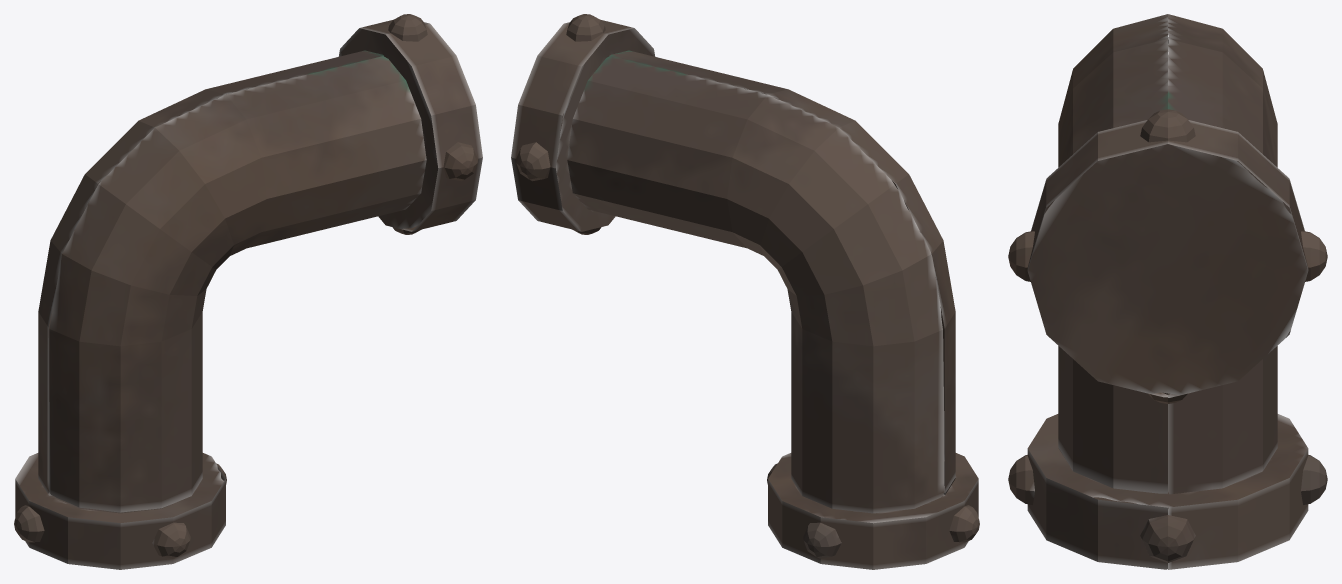
Rendered from tuberiaCurva.fbx.
3 renders of one model, left to right at view 1: azimuth 30°, elevation 25°; view 2: azimuth 150°, elevation 25°; view 3: azimuth 270°, elevation 25°, orthographic. The views are drawn at different scales.
Parts seen in each view (by area): view 1: TuberiaCurva; view 2: TuberiaCurva; view 3: TuberiaCurva.
Part boxes in pixels (left/top/right/bottom): TuberiaCurva: left=14, top=14, right=482, bottom=569; TuberiaCurva: left=511, top=14, right=979, bottom=569; TuberiaCurva: left=1008, top=14, right=1327, bottom=569.
Size of the model in its own units: 130 by 132 by 65.04.
